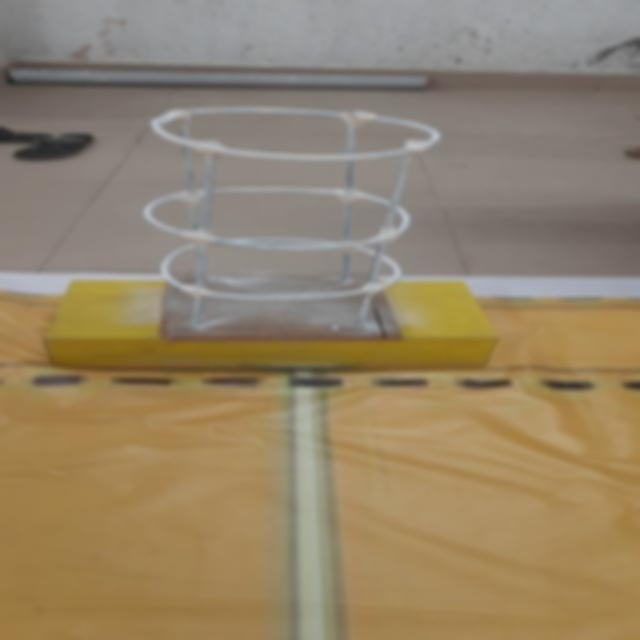silo: (106, 96, 467, 353)
